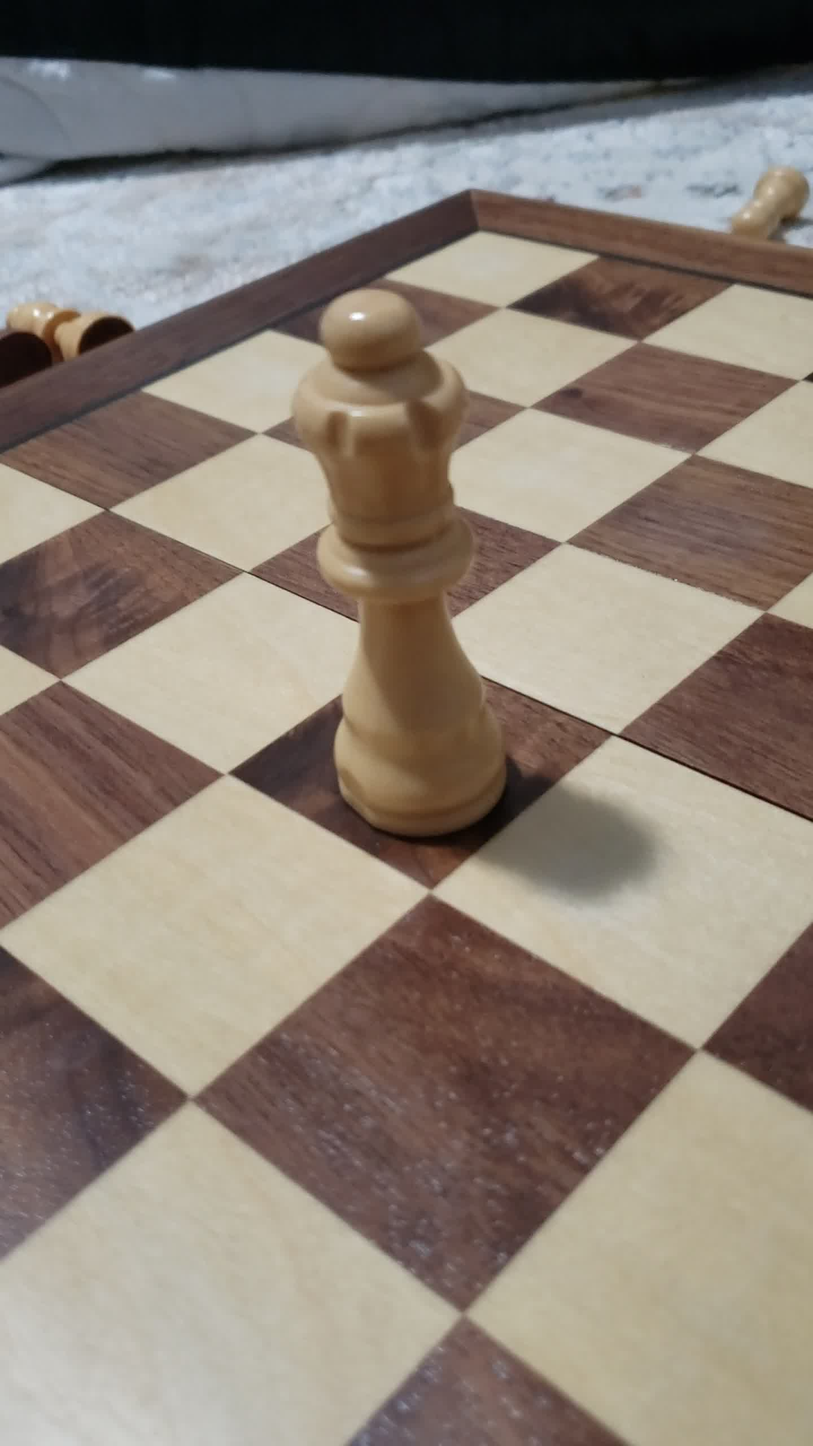white-queen: (251, 280, 552, 870)
